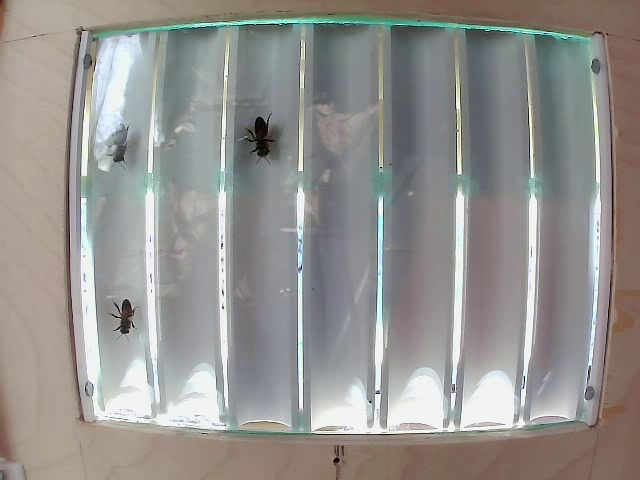bee: (242, 110, 292, 172), (113, 289, 143, 349)
